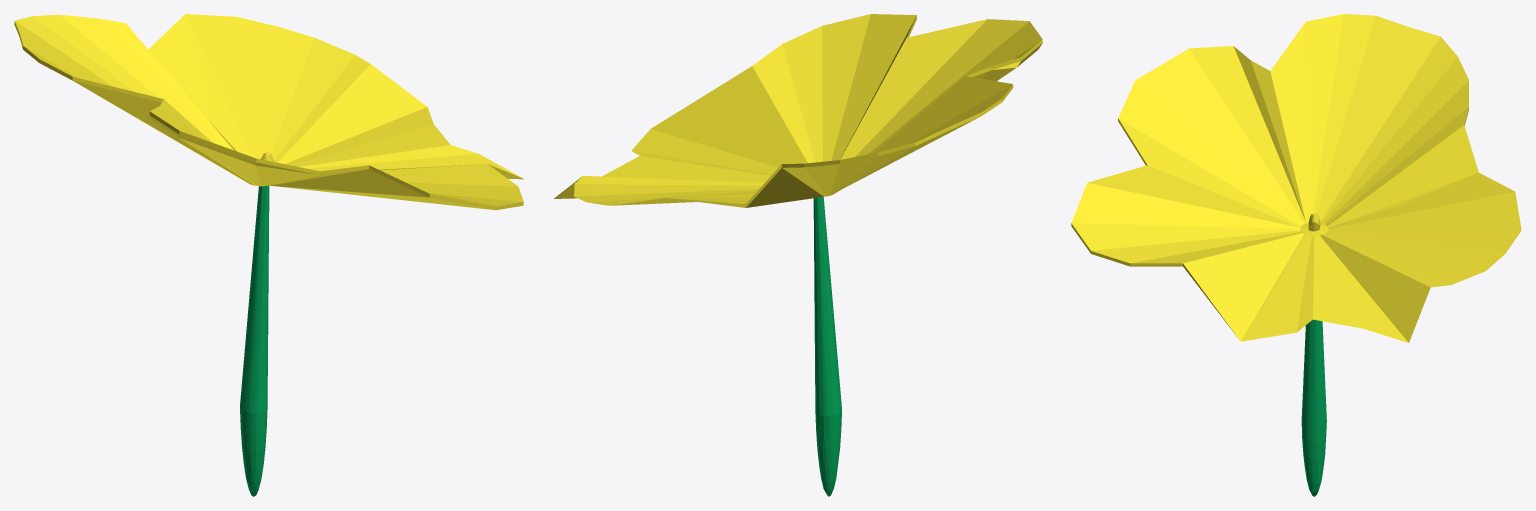
The model's file is flower.gltf.
The picture shows the model from 3 angles, left to right: view 1: azimuth 30°, elevation 25°; view 2: azimuth 150°, elevation 25°; view 3: azimuth 270°, elevation 25°; orthographic projection. The views are drawn at different scales.
Visible parts, largest first — view 1: flower; view 2: flower; view 3: flower.
Part boxes in pixels (x1,y1,x2,y2): flower: (14,14,524,496); flower: (553,14,1042,496); flower: (1071,14,1521,496).
Bounding box in the file's own units: 3.22 × 3.41 × 3.47.
Materials: 1 (1 with a texture image).
